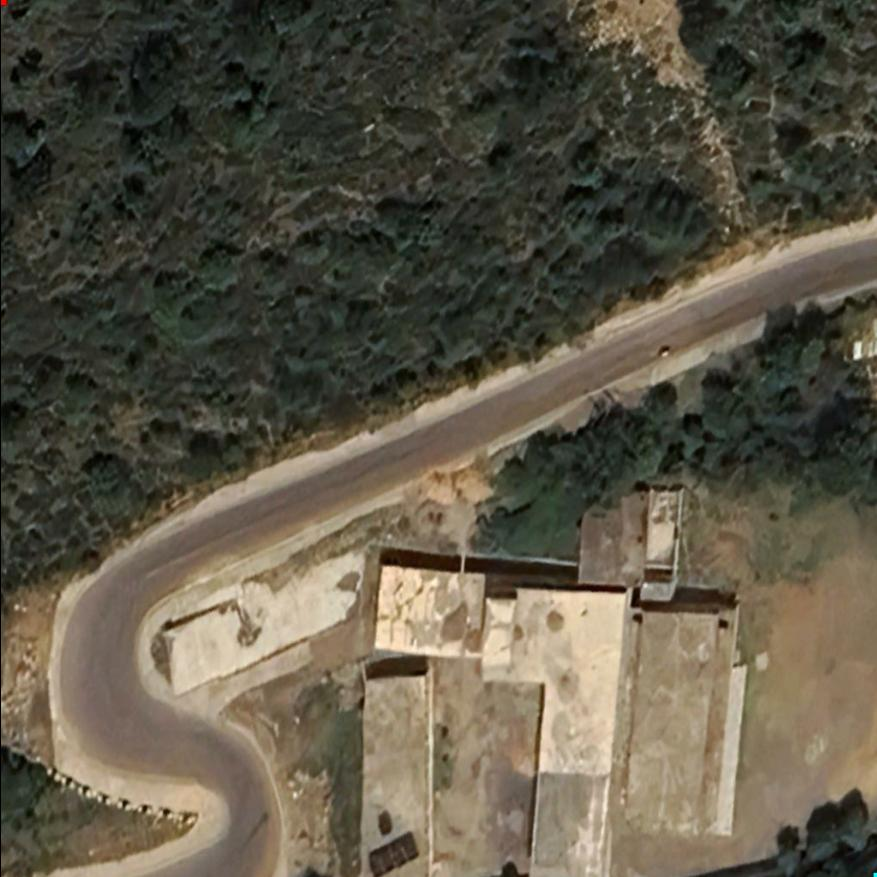Solarpanel: (365, 829, 420, 876), (376, 809, 392, 836)
